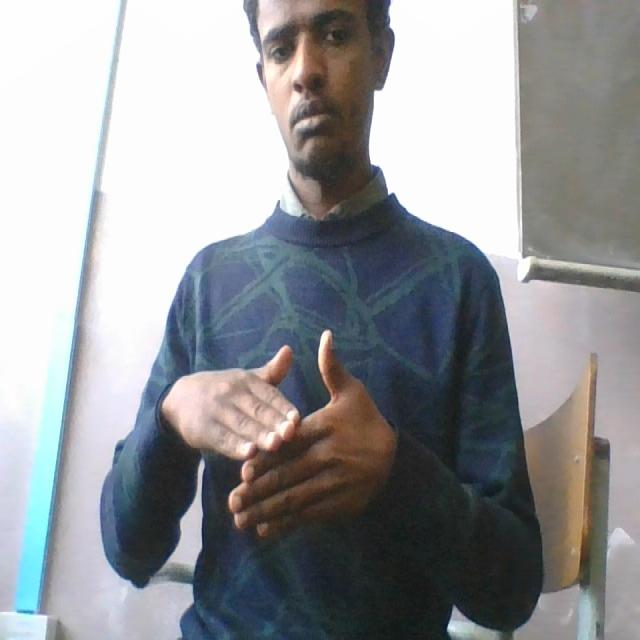tadya: (164, 324, 390, 543)
